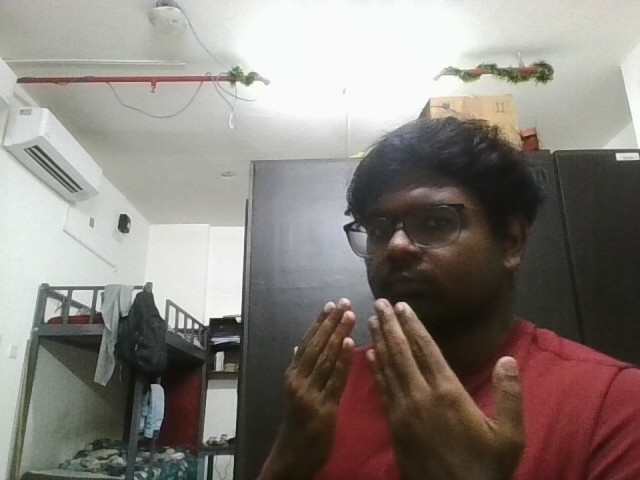Thanks: (267, 290, 538, 477)
